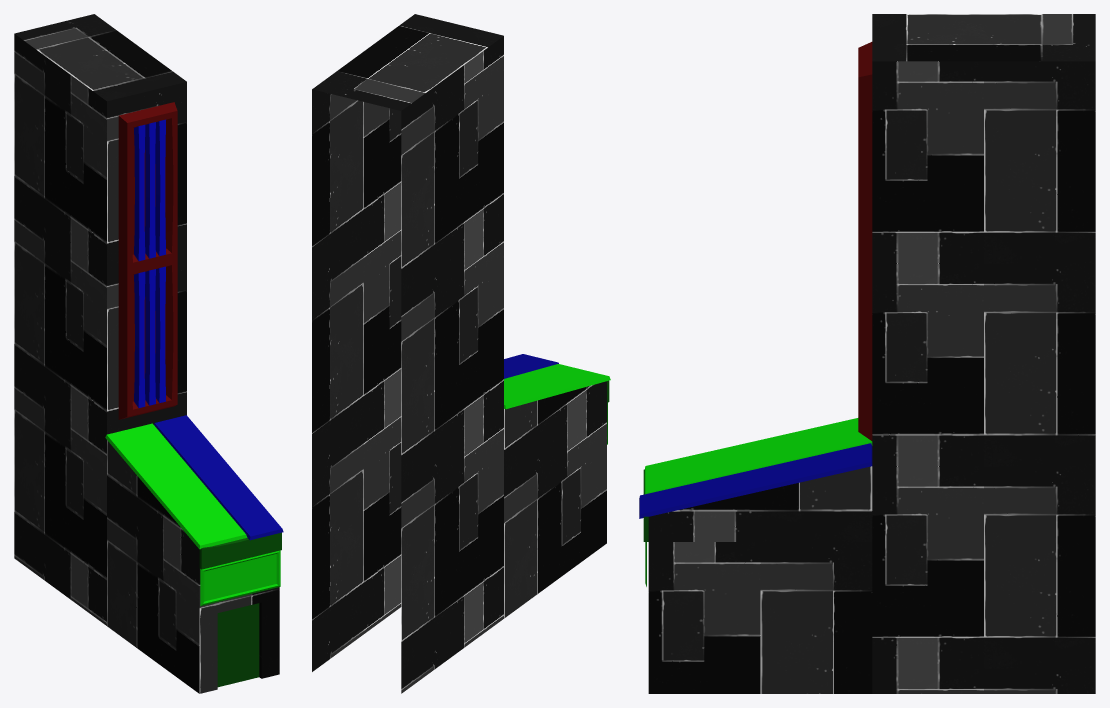
The model's file is SM_HumanBuilding04.FBX.
3 views of the same model, side by side, from view 1: azimuth 30°, elevation 25°; view 2: azimuth 150°, elevation 25°; view 3: azimuth 270°, elevation 25° (orthographic). The views are drawn at different scales.
Visible parts, largest first — view 1: Wall1573; view 2: Wall1573; view 3: Wall1573.
Boxes of the visible parts, box(x1,y1,x2,y2) form: Wall1573: box(14, 14, 283, 693); Wall1573: box(312, 14, 610, 693); Wall1573: box(639, 14, 1095, 693).
Size of the model in its own units: 409 by 1634 by 2500.
